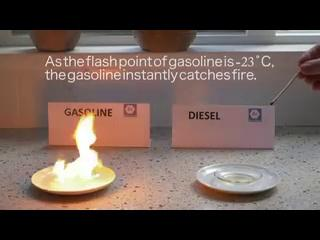Fire: (53, 111, 113, 187)
